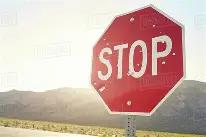Stop: (91, 8, 184, 114)
